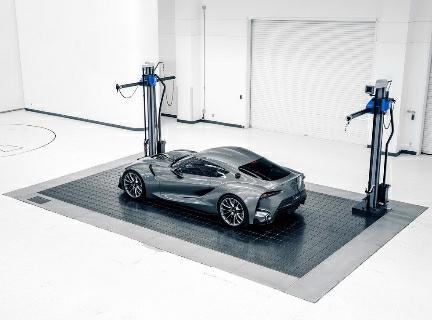丰田-FT-1: (112, 143, 312, 239)
